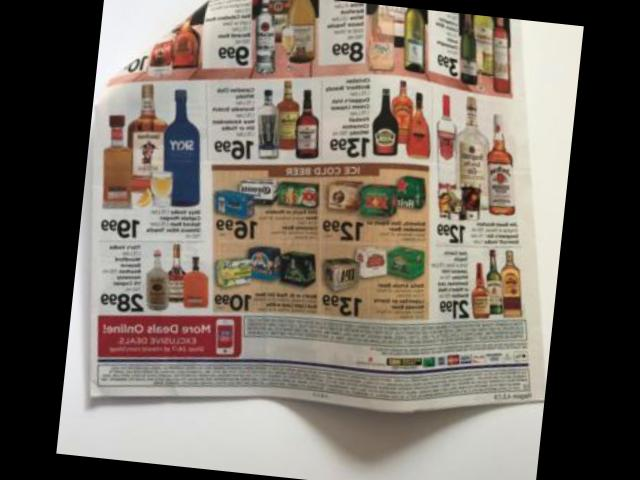cardboard paper: (87, 0, 542, 407)
